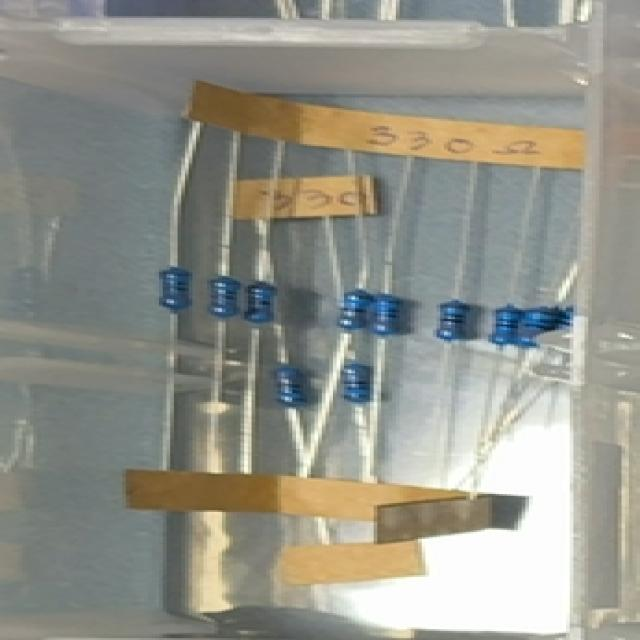Resistor: (270, 365, 311, 408), (154, 268, 194, 312), (518, 306, 556, 351), (365, 290, 402, 336), (432, 301, 472, 342), (337, 360, 376, 402), (335, 289, 374, 329), (244, 281, 276, 324), (489, 306, 519, 346), (207, 277, 236, 316), (561, 305, 590, 338)
